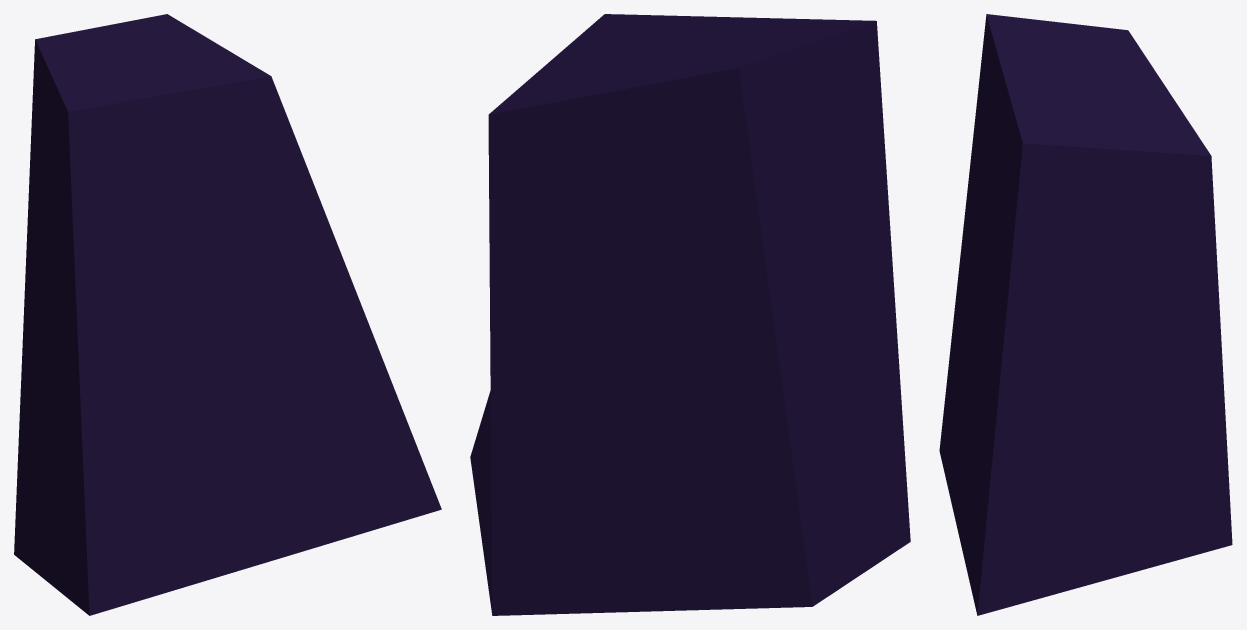
The model's file is stone_007_grp.fbx.
The picture shows the model from 3 angles, left to right: view 1: azimuth 30°, elevation 25°; view 2: azimuth 150°, elevation 25°; view 3: azimuth 270°, elevation 25°; orthographic projection. The views are drawn at different scales.
Visible parts, largest first — view 1: stone_007_grp; view 2: stone_007_grp; view 3: stone_007_grp.
Boxes of the visible parts, bbox=[...] form: stone_007_grp: bbox=[14, 14, 441, 615]; stone_007_grp: bbox=[470, 14, 910, 615]; stone_007_grp: bbox=[939, 14, 1232, 615].
Size of the model in its own units: 80 by 100 by 60.
